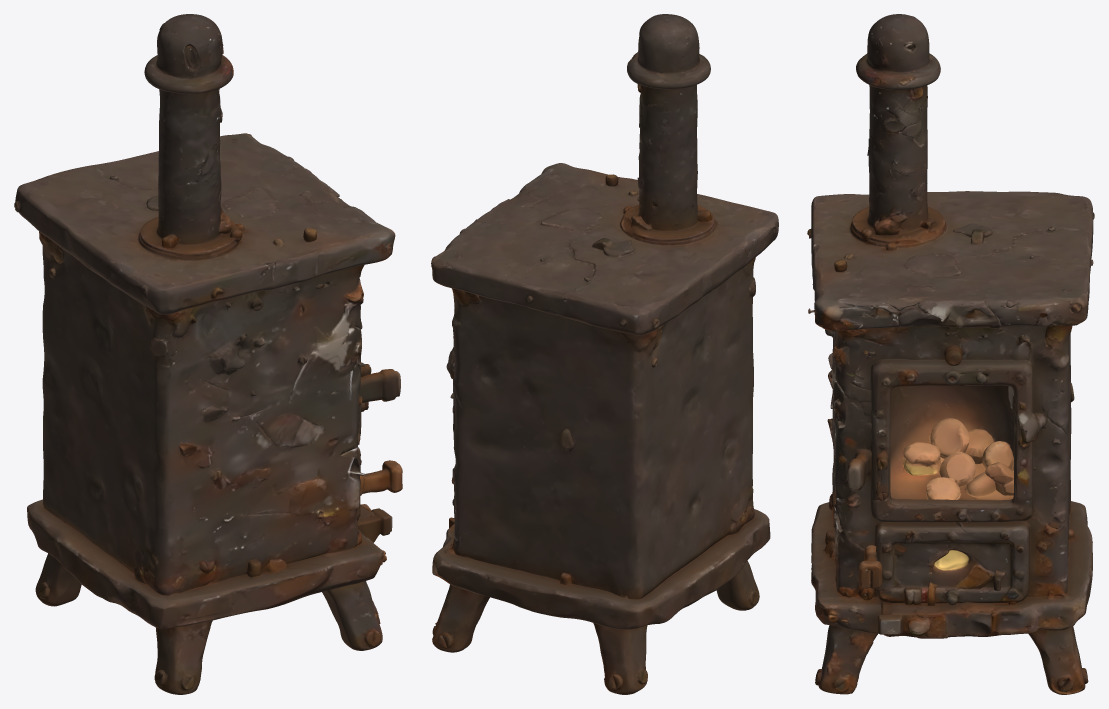
Rendered from stove.glb.
The picture shows the model from 3 angles, left to right: view 1: azimuth 30°, elevation 25°; view 2: azimuth 150°, elevation 25°; view 3: azimuth 270°, elevation 25°; orthographic projection. The views are drawn at different scales.
Visible parts, largest first — view 1: tripo_node_8f9801c5-97ae-42a0-9584-c0bd987c1e59; view 2: tripo_node_8f9801c5-97ae-42a0-9584-c0bd987c1e59; view 3: tripo_node_8f9801c5-97ae-42a0-9584-c0bd987c1e59.
Part boxes in pixels (x1=…): tripo_node_8f9801c5-97ae-42a0-9584-c0bd987c1e59: x1=14, y1=14, x2=402, y2=694; tripo_node_8f9801c5-97ae-42a0-9584-c0bd987c1e59: x1=431, y1=14, x2=778, y2=694; tripo_node_8f9801c5-97ae-42a0-9584-c0bd987c1e59: x1=807, y1=14, x2=1094, y2=694.
Size of the model in its own units: 0.4461 by 0.9794 by 0.4216.
1 material, 1 textured.
